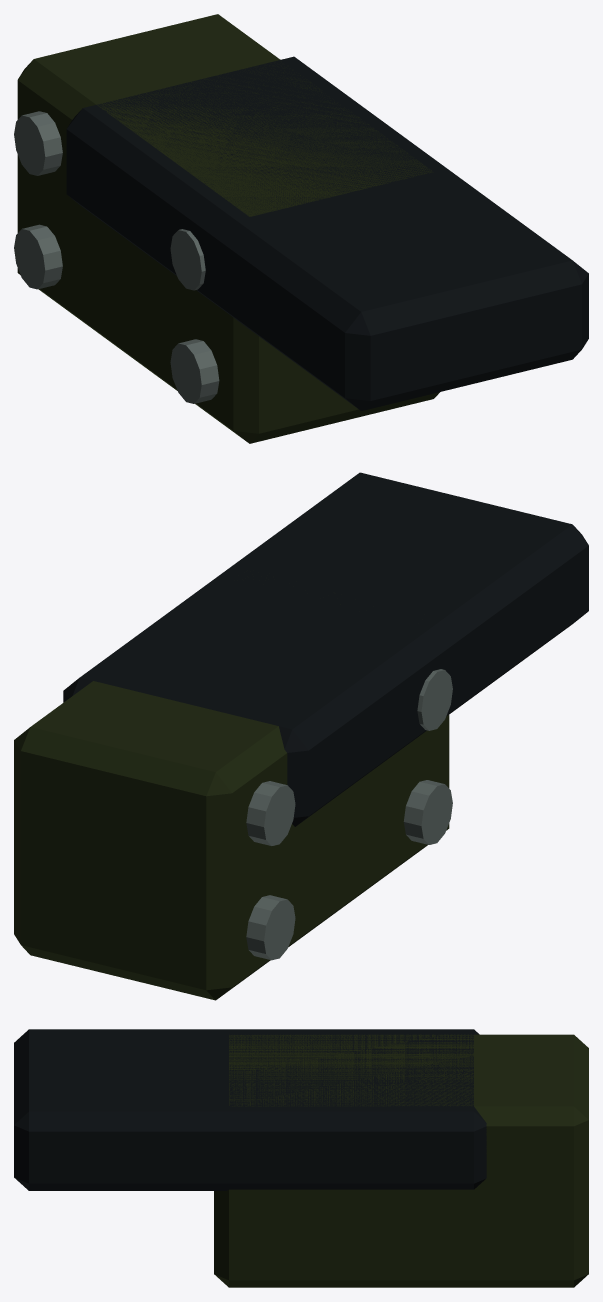
File: DoorMount__Mount.obj
3 views of the same model, one above another, from view 1: azimuth 30°, elevation 25°; view 2: azimuth 150°, elevation 25°; view 3: azimuth 270°, elevation 25° (orthographic). The views are drawn at different scales.
Visible parts, largest first — view 1: Mount_lug, Cabin_mounting_plate, Cabin_plate_fastener, Cabin_plate_fastener.001, Cabin_plate_fastener.003, Cabin_plate_fastener.002; view 2: Mount_lug, Cabin_mounting_plate, Cabin_plate_fastener, Cabin_plate_fastener.003, Cabin_plate_fastener.001, Cabin_plate_fastener.002; view 3: Mount_lug, Cabin_mounting_plate.
Part boxes in pixels (x1,y1,x2,y2): Mount_lug: (66,56,588,410); Cabin_mounting_plate: (17,14,439,443); Cabin_plate_fastener: (170,339,219,403); Cabin_plate_fastener.001: (14,224,62,289); Cabin_plate_fastener.003: (14,111,62,175); Cabin_plate_fastener.002: (170,229,205,290); Mount_lug: (63,472,588,826); Cabin_mounting_plate: (14,604,449,1000); Cabin_plate_fastener: (403,780,452,844); Cabin_plate_fastener.003: (246,781,295,845); Cabin_plate_fastener.001: (246,895,295,960); Cabin_plate_fastener.002: (417,669,452,730); Mount_lug: (14,1029,486,1190); Cabin_mounting_plate: (214,1034,588,1287).
Bounding box in the file's own units: 0.183 × 0.16 × 0.46.
